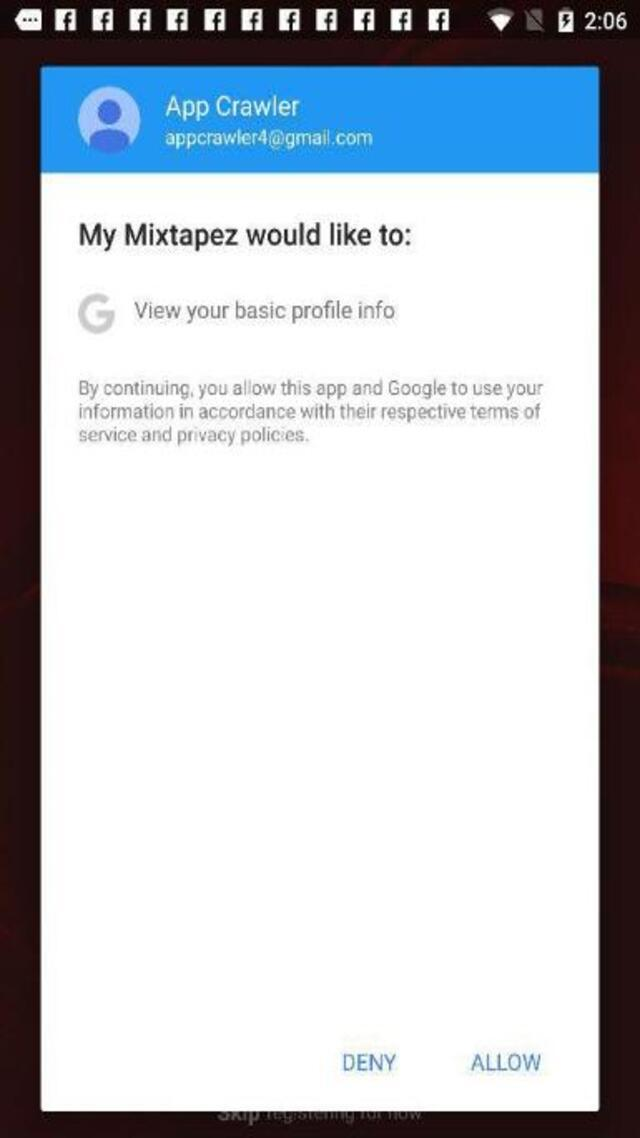Icon: (78, 86, 141, 152)
Image: (78, 292, 116, 334)
Text: (76, 402, 548, 426), (76, 378, 548, 400), (79, 222, 410, 251), (135, 298, 394, 324), (76, 426, 318, 449), (164, 127, 376, 151), (165, 95, 298, 122), (470, 1051, 540, 1072), (342, 1050, 396, 1070)
